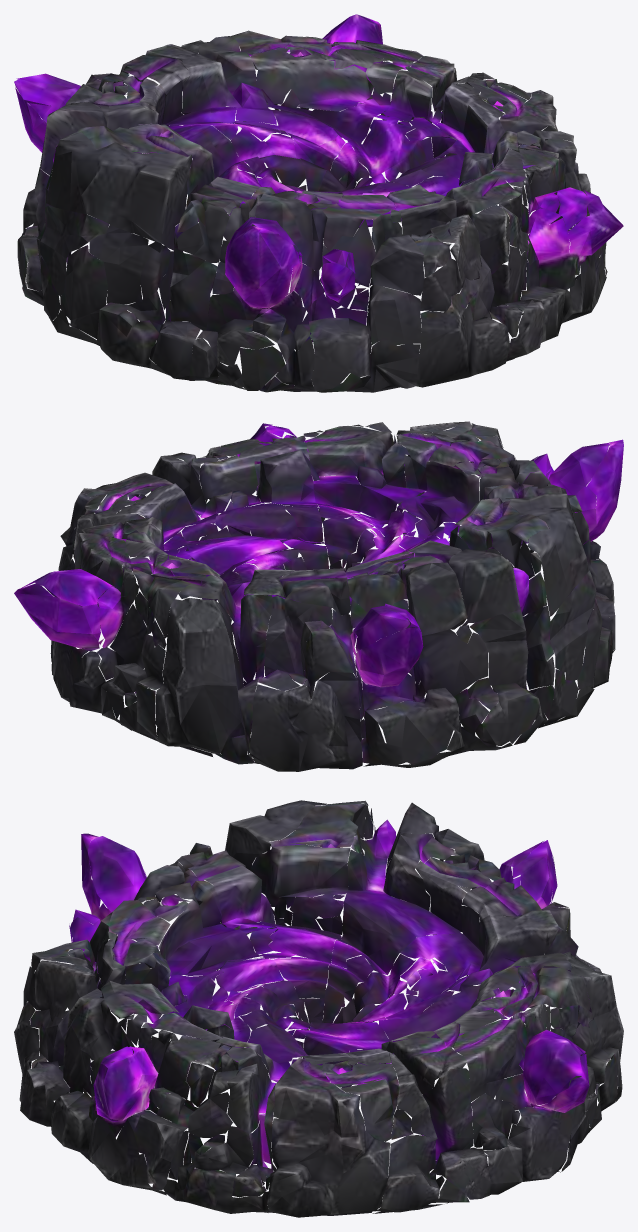
The model's file is mine-mystic.glb.
The picture shows the model from 3 angles, top to bottom: view 1: azimuth 30°, elevation 25°; view 2: azimuth 150°, elevation 25°; view 3: azimuth 270°, elevation 25°; orthographic projection. The views are drawn at different scales.
Parts seen in each view (by area): view 1: mine-mystic-body; view 2: mine-mystic-body; view 3: mine-mystic-body.
Boxes of the visible parts, box(x1,y1,x2,y2) form: mine-mystic-body: box(14, 14, 623, 392); mine-mystic-body: box(14, 421, 623, 771); mine-mystic-body: box(14, 800, 623, 1217).
Size of the model in its own units: 0.9853 by 0.378 by 1.
1 material, 1 textured.
